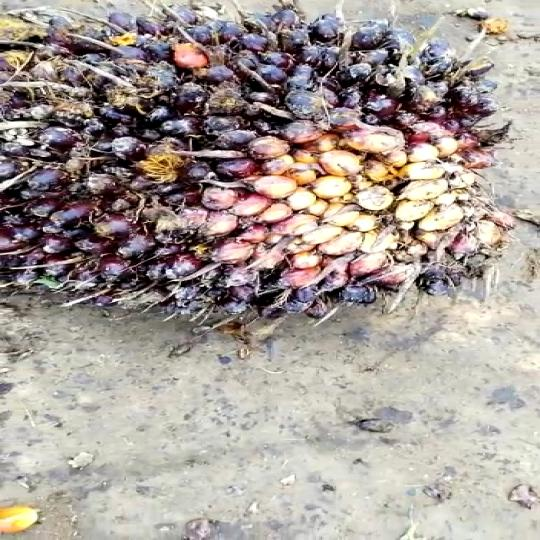mentah: (4, 2, 506, 331)
